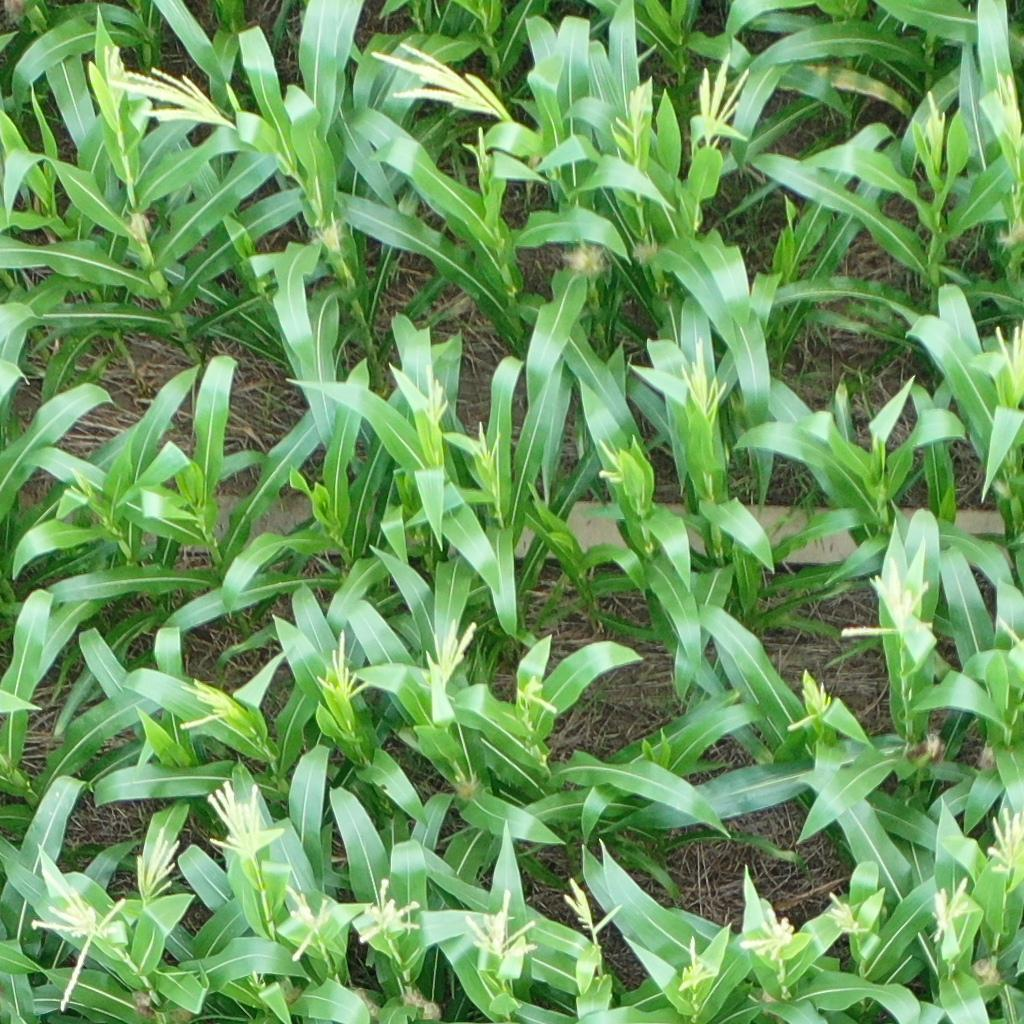Tassel: (25, 859, 124, 1013), (371, 31, 504, 119), (107, 66, 238, 135), (833, 558, 938, 642), (199, 775, 277, 862), (457, 885, 540, 961), (349, 876, 428, 946), (694, 51, 749, 150), (675, 333, 729, 419), (921, 872, 977, 952), (283, 885, 339, 965), (419, 614, 478, 688), (556, 874, 625, 936), (130, 825, 184, 903), (314, 628, 369, 701), (739, 903, 799, 963), (171, 679, 240, 729), (980, 803, 1024, 875), (783, 677, 838, 733), (414, 353, 454, 423), (613, 79, 655, 139), (510, 669, 554, 720), (674, 936, 713, 991), (991, 321, 1024, 386), (826, 888, 868, 938), (987, 69, 1024, 122), (595, 437, 633, 487), (918, 89, 946, 149), (95, 44, 129, 93), (474, 418, 504, 473), (66, 468, 92, 501)
